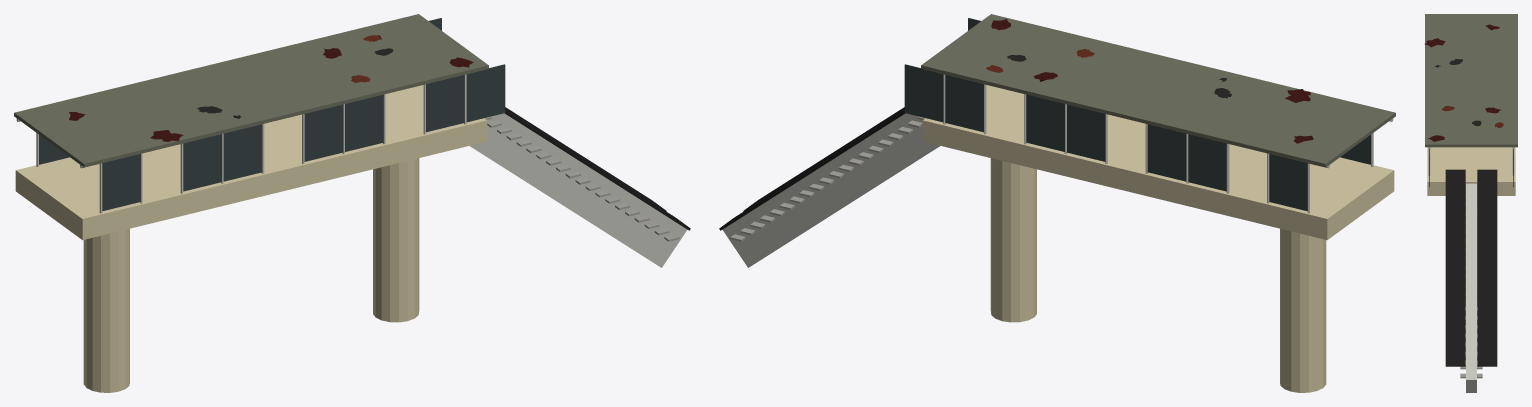
The model's file is strip_bridge.glb.
The picture shows the model from 3 angles, left to right: view 1: azimuth 30°, elevation 25°; view 2: azimuth 150°, elevation 25°; view 3: azimuth 270°, elevation 25°; orthographic projection. The views are drawn at different scales.
Parts seen in each view (by area): view 1: strip_bridge; view 2: strip_bridge; view 3: strip_bridge.
Boxes of the visible parts, x1,y1,x2,y2 form: strip_bridge: [14, 14, 690, 392]; strip_bridge: [719, 14, 1395, 392]; strip_bridge: [1424, 14, 1517, 392].
Size of the model in its own units: 21.95 by 9.12 by 4.25.
